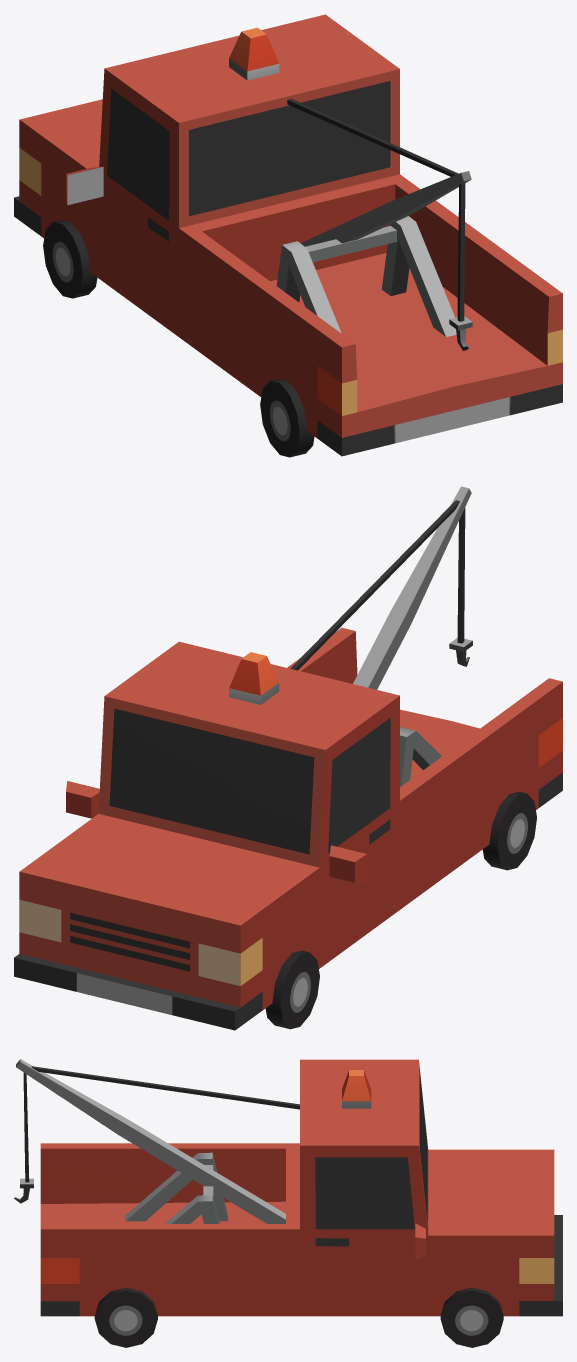
File: towRed.glb
3 views of the same model, one above another, from view 1: azimuth 30°, elevation 25°; view 2: azimuth 150°, elevation 25°; view 3: azimuth 270°, elevation 25° (orthographic). The views are drawn at different scales.
Parts seen in each view (by area): view 1: tow_red_prefab; view 2: tow_red_prefab; view 3: tow_red_prefab.
Part boxes in pixels (<box>): tow_red_prefab: <box>14,14,562,457</box>; tow_red_prefab: <box>14,486,562,1030</box>; tow_red_prefab: <box>14,1059,562,1347</box>.
Bounding box in the file's own units: 3.16 × 3.05 × 6.29.
1 material, 1 textured.
